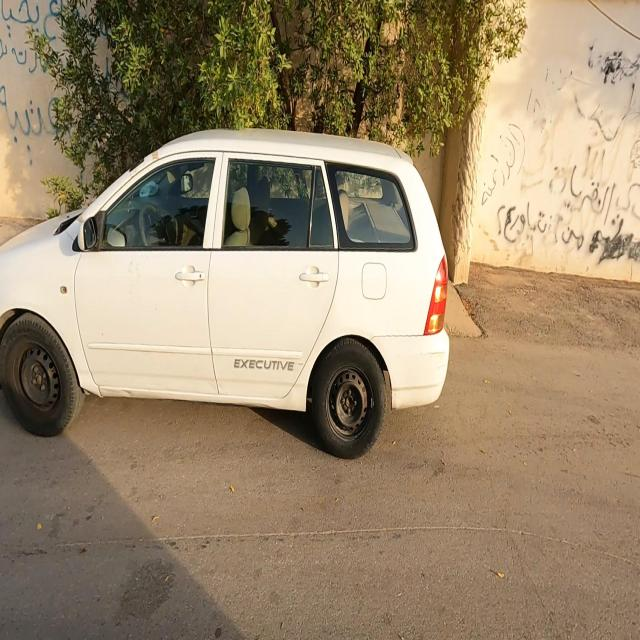Graffiti: (483, 40, 639, 262), (1, 0, 63, 165)
